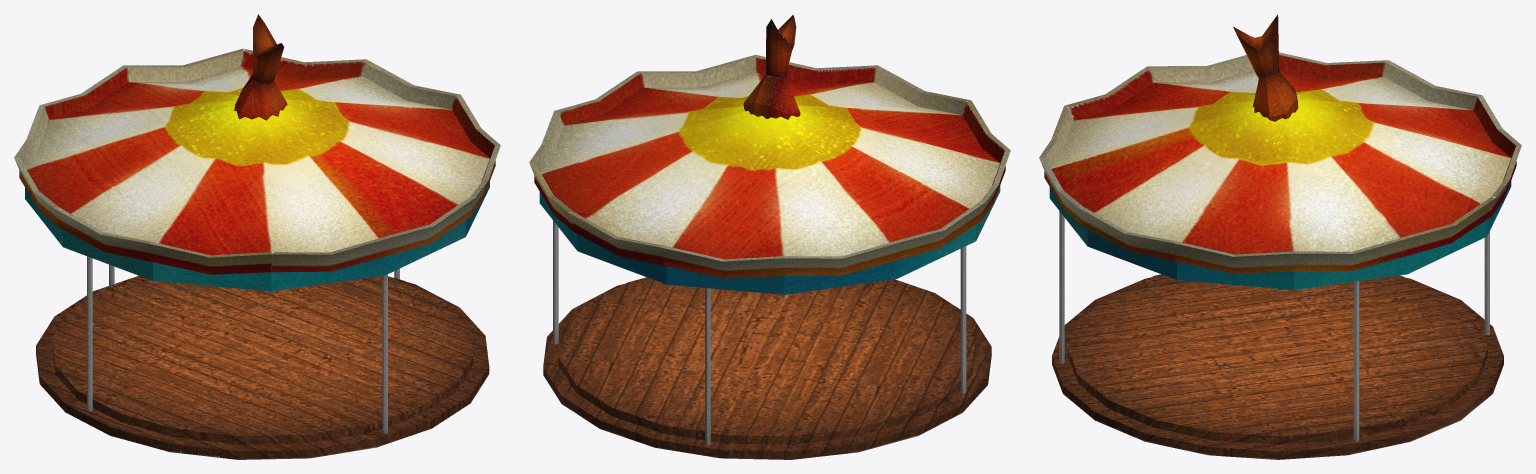
The model's file is merrygoland_Foundation.fbx.
3 renders of one model, left to right at view 1: azimuth 30°, elevation 25°; view 2: azimuth 150°, elevation 25°; view 3: azimuth 270°, elevation 25°, orthographic.
Parts seen in each view (by area): view 1: pCylinder5, pCylinder2, pCube25, pCylinder22, pCylinder21; view 2: pCylinder5, pCylinder2, pCube25, pCylinder21, pCylinder20, pCylinder23; view 3: pCylinder5, pCylinder2, pCube25, pCylinder23, pCylinder22, pCylinder20.
Boxes of the visible parts, bbox=[...] form: pCylinder5: bbox=[14, 48, 500, 291]; pCylinder2: bbox=[36, 275, 489, 459]; pCube25: bbox=[234, 14, 287, 120]; pCylinder22: bbox=[382, 274, 387, 433]; pCylinder21: bbox=[87, 256, 92, 411]; pCylinder5: bbox=[529, 54, 1010, 294]; pCylinder2: bbox=[543, 277, 991, 459]; pCube25: bbox=[743, 14, 800, 119]; pCylinder21: bbox=[960, 246, 966, 393]; pCylinder20: bbox=[705, 288, 710, 445]; pCylinder23: bbox=[553, 220, 558, 344]; pCylinder5: bbox=[1039, 52, 1521, 290]; pCylinder2: bbox=[1052, 274, 1503, 459]; pCube25: bbox=[1233, 14, 1298, 121]; pCylinder23: bbox=[1353, 281, 1359, 441]; pCylinder22: bbox=[1059, 211, 1064, 363]; pCylinder20: bbox=[1484, 231, 1489, 335].
Bounding box in the file's own units: 221 × 176 × 221.
Materials: 1 (1 with a texture image).
